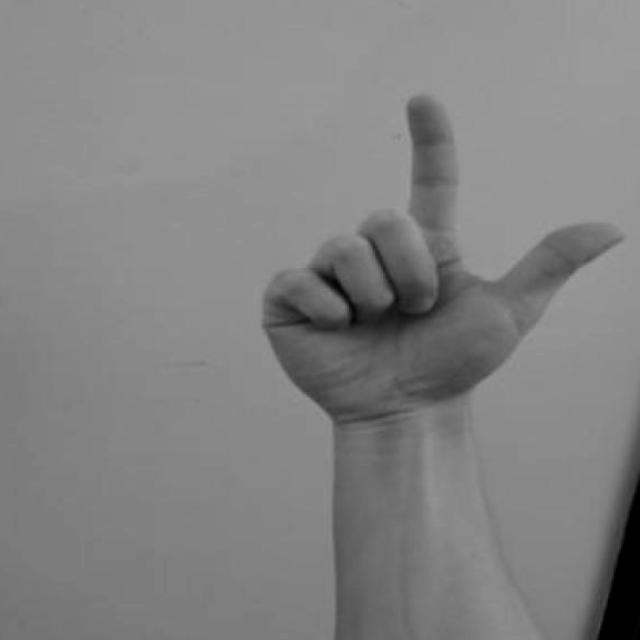L: (257, 77, 640, 448)
